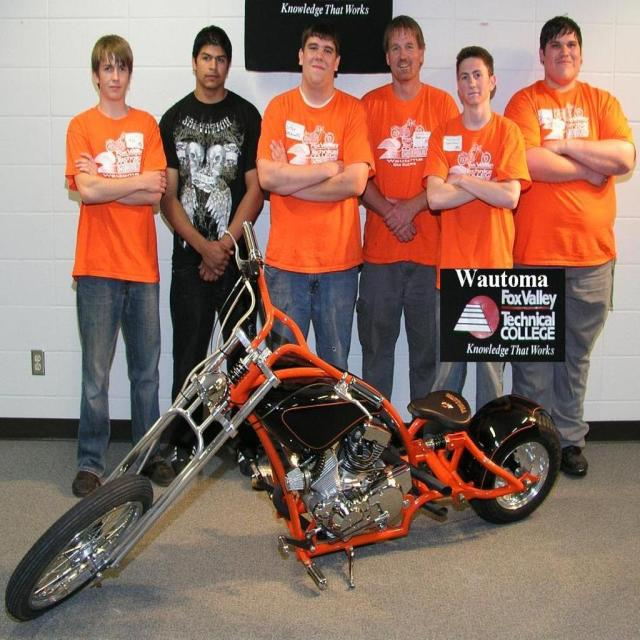Face: (452, 49, 505, 116), (293, 31, 348, 90), (543, 28, 587, 89), (385, 26, 430, 83), (94, 55, 139, 103), (194, 41, 234, 95)
